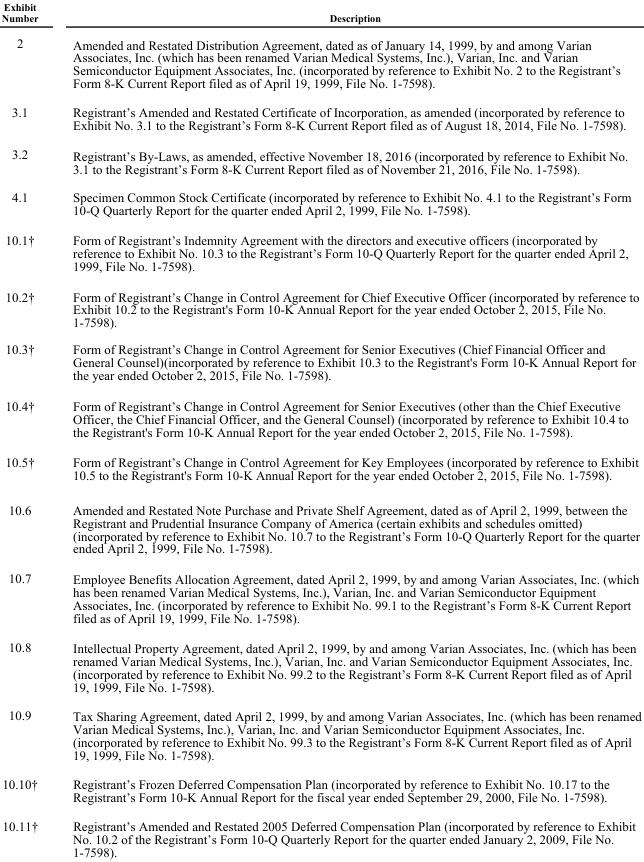table: (0, 1, 640, 858)
table column: (54, 1, 640, 858), (0, 1, 54, 858)
table column header: (0, 1, 640, 29)
table row: (0, 491, 640, 562), (0, 562, 640, 632), (0, 700, 640, 769), (0, 29, 640, 97), (0, 632, 640, 700), (0, 224, 640, 280), (0, 390, 640, 446), (0, 280, 640, 335), (0, 335, 640, 390), (0, 811, 640, 858), (0, 446, 640, 491), (0, 139, 640, 182), (0, 97, 640, 139), (0, 182, 640, 224), (0, 769, 640, 811), (0, 1, 640, 29)
